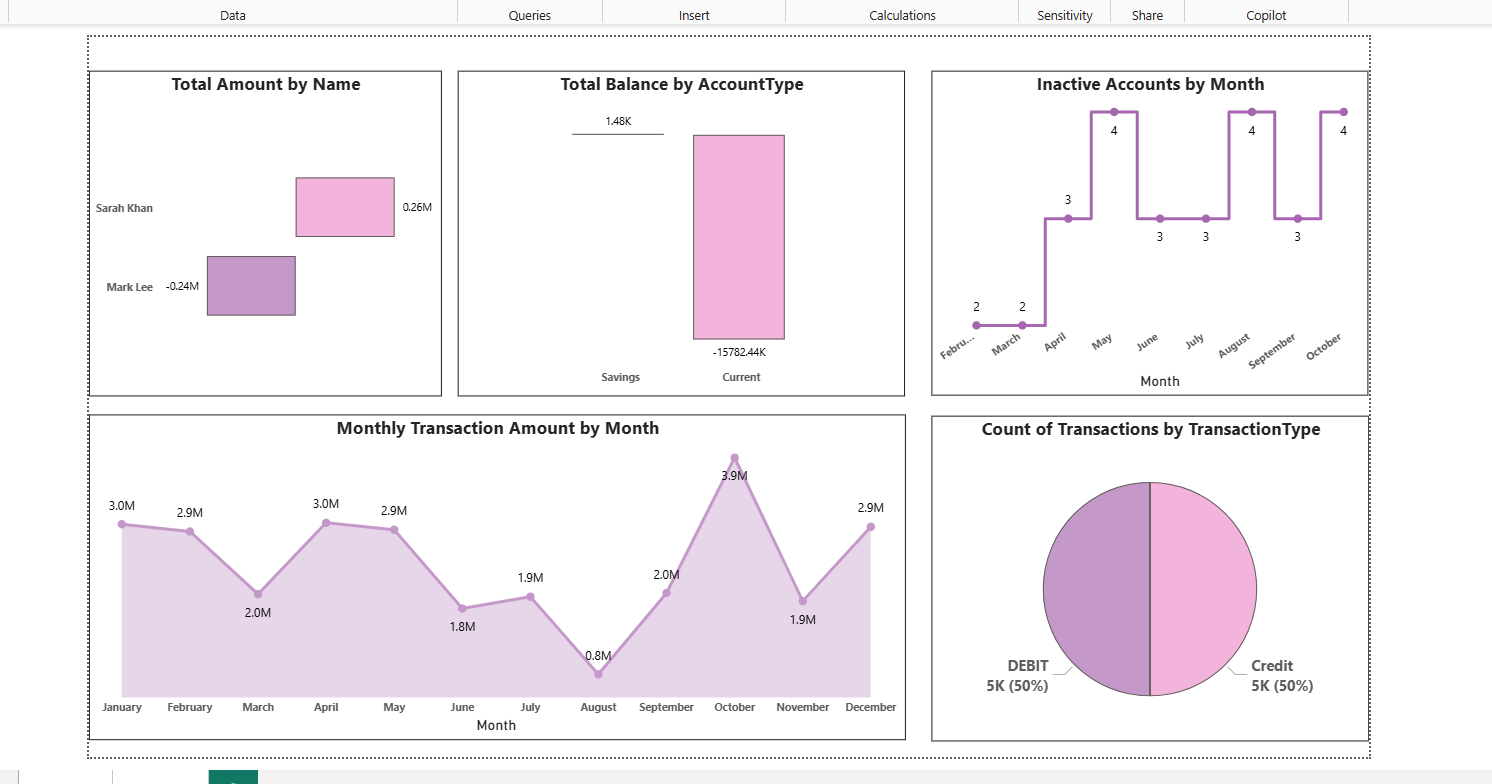

What the dashboard file says about the page in this screenshot:
{"tool":"powerbi","page":{"name":"Page 1","canvas":[1280,720],"ordinal":0},"visuals":[{"type":"pieChart","fields":{"Category":["CombinedBankingDataset.TransactionType"],"Y":["Measures Table.Count of Transactions"]},"box":[842.5,378.7,437.7,325.2],"z":0},{"type":"areaChart","fields":{"Category":["CombinedBankingDataset.TransactionDate.Variation.Date Hierarchy.Month"],"Y":["Measures Table.Monthly Transaction Amount"]},"box":[0,377.4,816.5,325.2],"z":1000},{"type":"barChart","title":"Total Amount by Name","fields":{"Y":["CombinedBankingDataset.Amount"],"Category":["CombinedBankingDataset.Name"]},"box":[0,34.3,352.7,325.2],"z":2000},{"type":"clusteredColumnChart","fields":{"Y":["Measures Table.Total Balance"],"Category":["CombinedBankingDataset.AccountType"]},"box":[369.1,34.3,447.3,325.2],"z":3000},{"type":"lineChart","fields":{"Y":["Measures Table.Inactive Accounts"],"Category":["CombinedBankingDataset.TransactionDate.Variation.Date Hierarchy.Year","CombinedBankingDataset.TransactionDate.Variation.Date Hierarchy.Month"]},"box":[843,34,437,325],"z":4000}]}

Visuals, with their boxes on the page's 1280x720 design canvas (x1, y1, x2, y2). These are canvas units, not pixel positions in the 1492x784 screenshot, which may show the page scaled, cropped or inside an application window:
pieChart - CombinedBankingDataset.TransactionType x Measures Table.Count of Transactions: <bbox>842, 379, 1280, 704</bbox>
areaChart - CombinedBankingDataset.TransactionDate.Variation.Date Hierarchy.Month x Measures Table.Monthly Transaction Amount: <bbox>0, 377, 816, 703</bbox>
"Total Amount by Name" barChart: <bbox>0, 34, 353, 360</bbox>
clusteredColumnChart - Measures Table.Total Balance x CombinedBankingDataset.AccountType: <bbox>369, 34, 816, 360</bbox>
lineChart - Measures Table.Inactive Accounts x CombinedBankingDataset.TransactionDate.Variation.Date Hierarchy.Year: <bbox>843, 34, 1280, 359</bbox>
